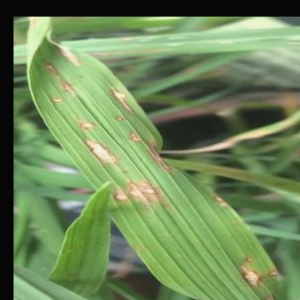Brown_Spot: (76, 133, 118, 168), (103, 80, 136, 116), (237, 254, 266, 289), (52, 42, 86, 66), (72, 111, 101, 139), (118, 121, 144, 149), (57, 73, 81, 98), (104, 107, 130, 130), (110, 184, 128, 212), (141, 179, 163, 201), (47, 91, 72, 110), (43, 57, 63, 77), (127, 181, 144, 201)
